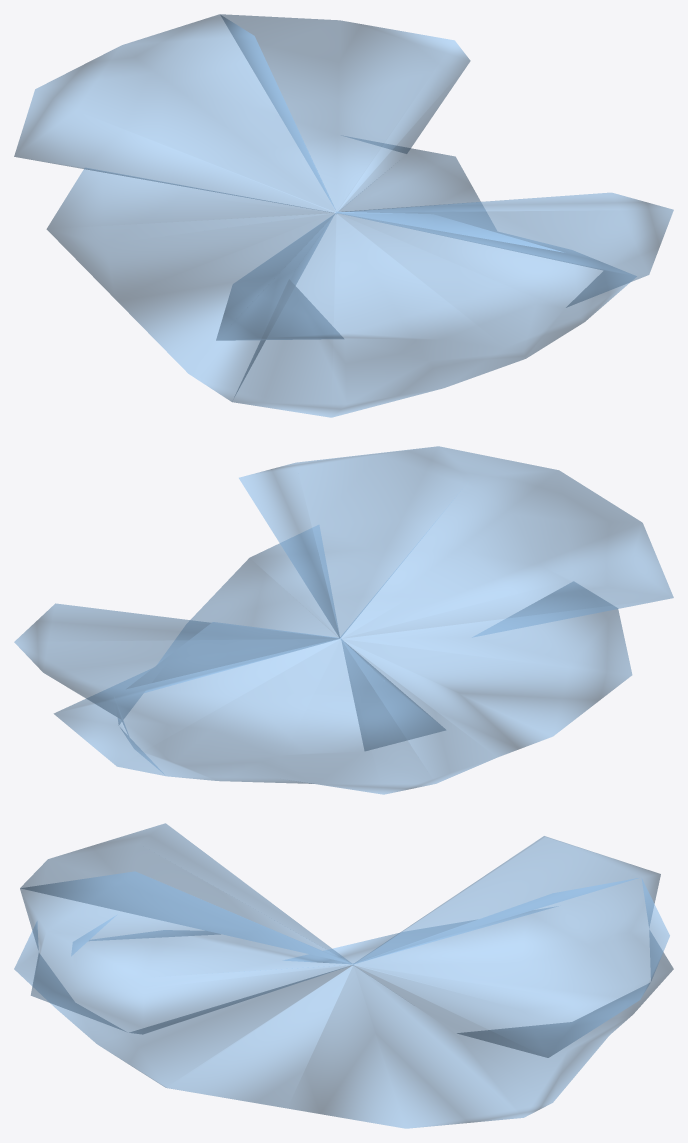
Rendered from mjumpgate_shield.gltf.
The picture shows the model from 3 angles, top to bottom: view 1: azimuth 30°, elevation 25°; view 2: azimuth 150°, elevation 25°; view 3: azimuth 270°, elevation 25°; orthographic projection. The views are drawn at different scales.
Parts seen in each view (by area): view 1: mjumpgate.shield; view 2: mjumpgate.shield; view 3: mjumpgate.shield.
Boxes of the visible parts, x1,y1,x2,y2 form: mjumpgate.shield: (14,14,673,417); mjumpgate.shield: (14,446,673,794); mjumpgate.shield: (14,823,673,1128).
Size of the model in its own units: 19.38 by 6.92 by 25.25.
